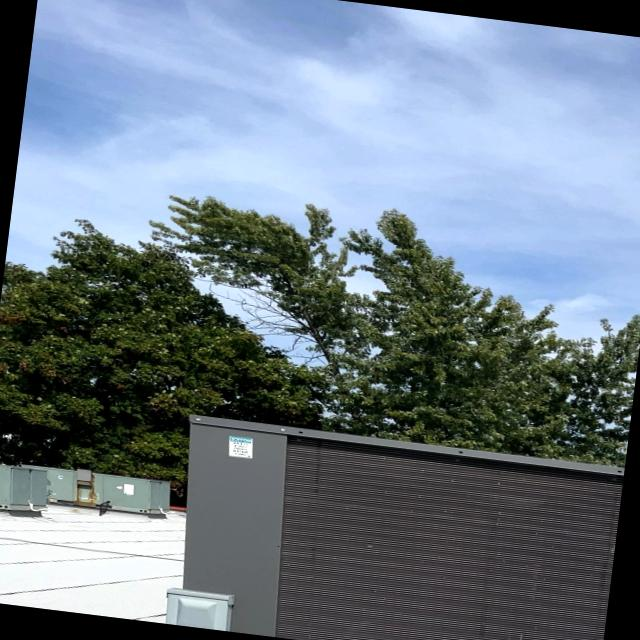RTU: (142, 405, 625, 640), (11, 459, 175, 516), (0, 459, 59, 517)
